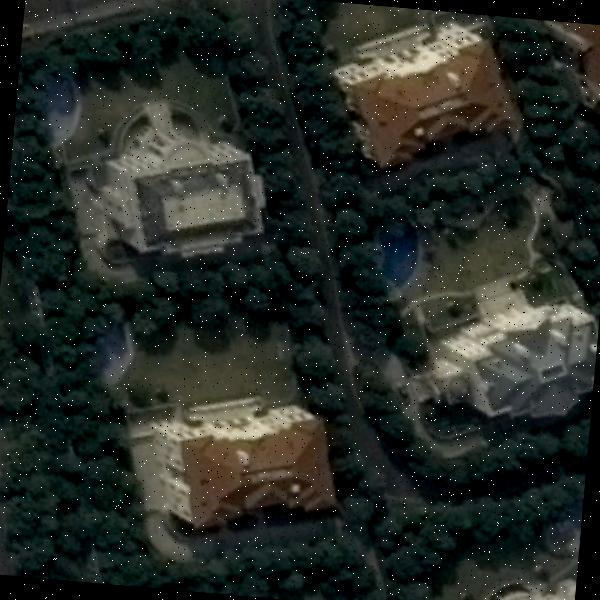Buildings: (94, 96, 272, 254), (418, 285, 596, 415), (344, 22, 518, 148), (146, 406, 335, 520), (477, 560, 575, 600)
